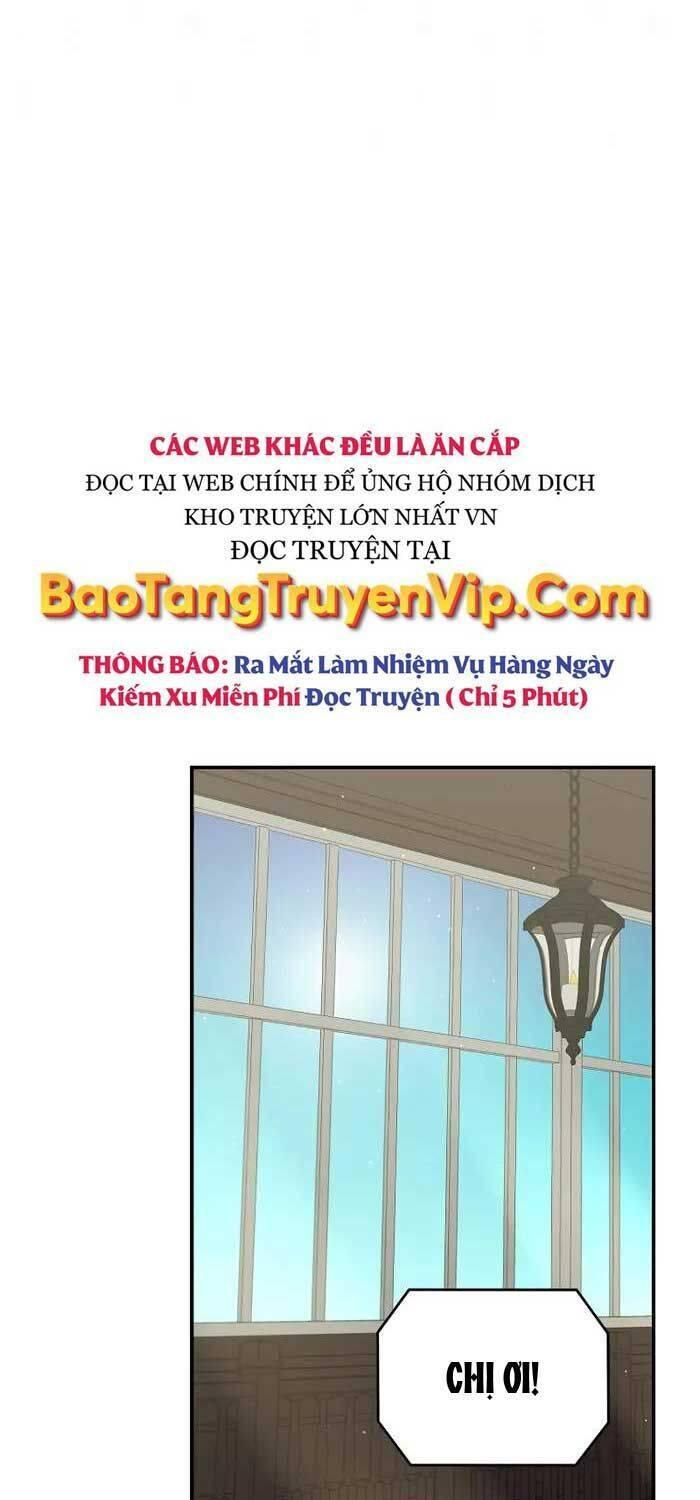quangcao: (30, 424, 658, 718)
